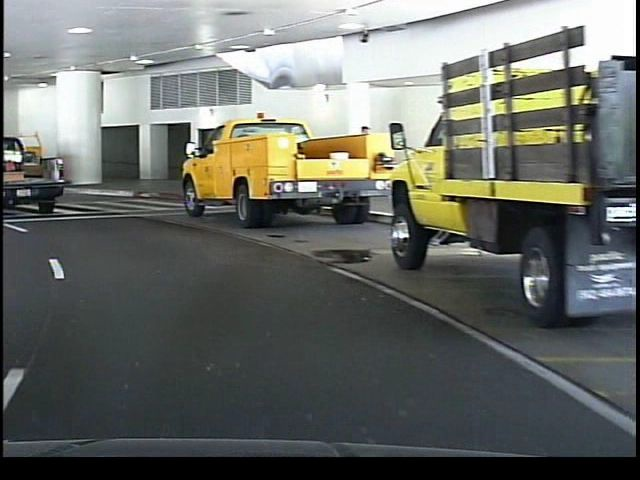person: (351, 119, 377, 203)
